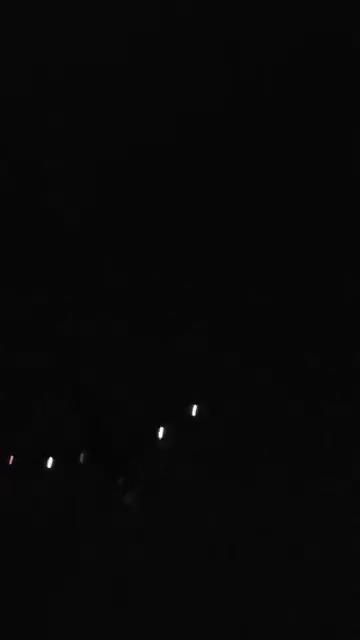Plane: (11, 385, 199, 539)
